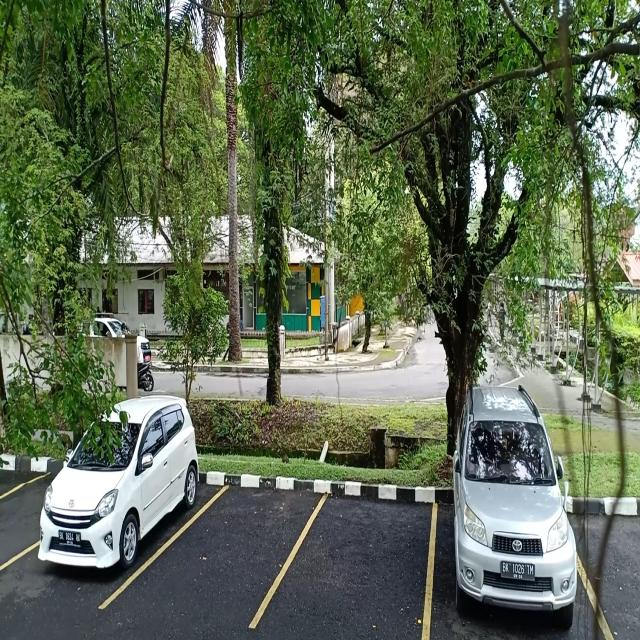empty: (276, 472, 434, 640), (165, 467, 290, 633), (0, 474, 47, 566)
occupied: (427, 469, 586, 640), (34, 454, 193, 598)
